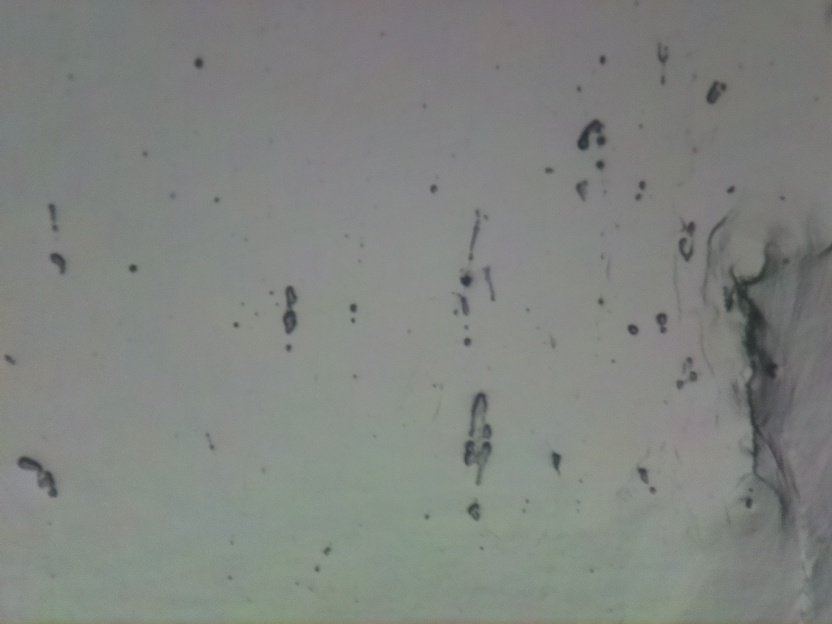crack: (708, 244, 791, 522)
